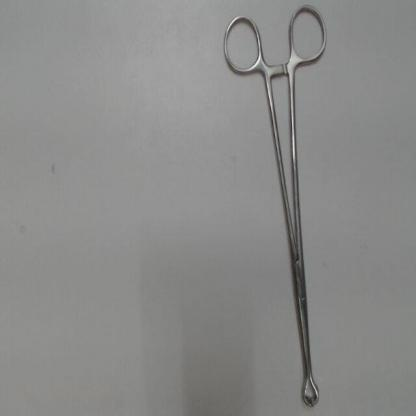8 Babcock Tissue Forceps: (215, 2, 330, 411)
